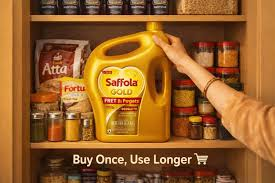saffola: (84, 22, 171, 142)
